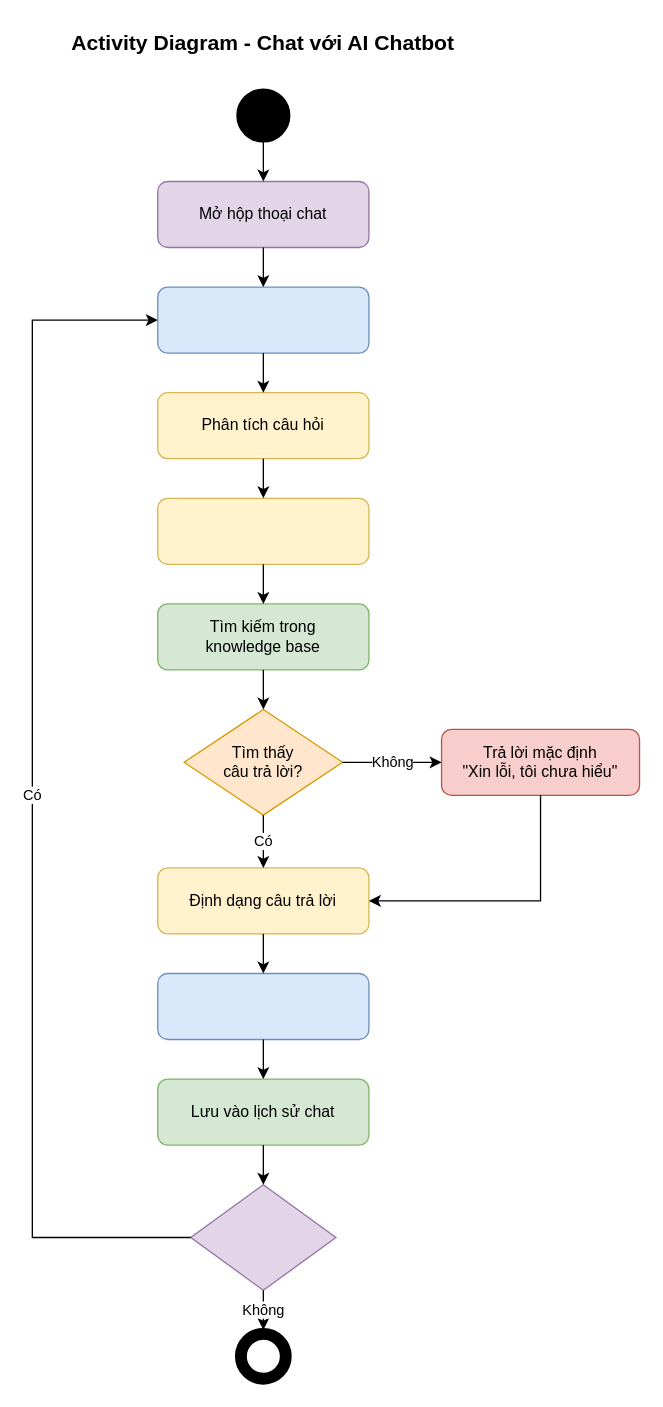
Image size: 663x1407. Some labels were removed from this diagram. The shapes that lost their labels are listed below. From the top down, each one's centre as x and y in pixels, then its label:
the point at 262,319: Nhập tin nhắn
the point at 262,530: Trích xuất từ khóa
the point at 262,1006: Hiển thị câu trả lời
the point at 262,1236: Tiếp tục chat?
